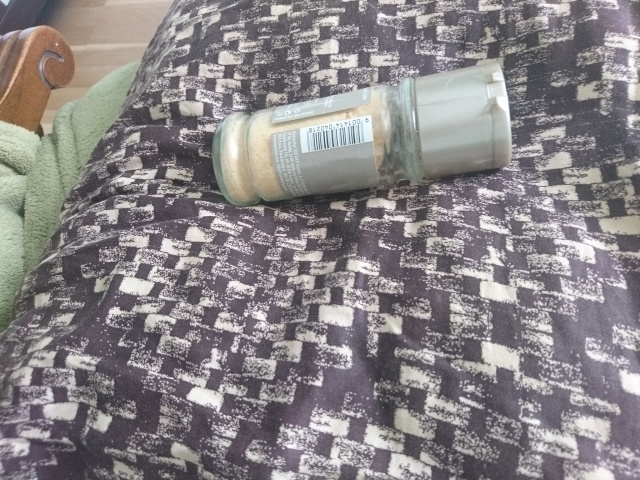Kotanyi Garlic Granules 70g: (208, 56, 515, 209)
